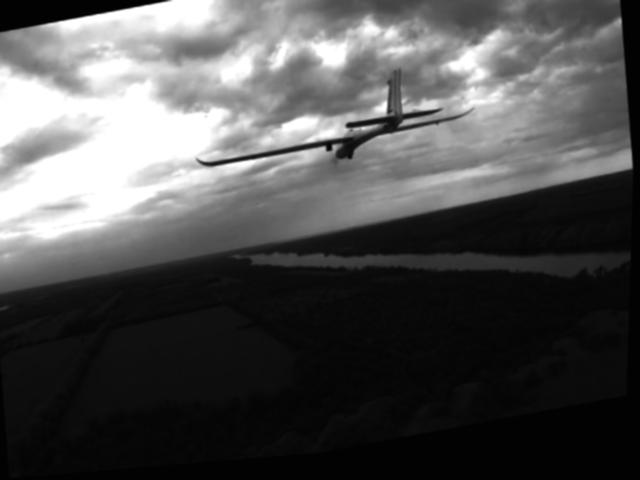hedef: (182, 53, 500, 203)
